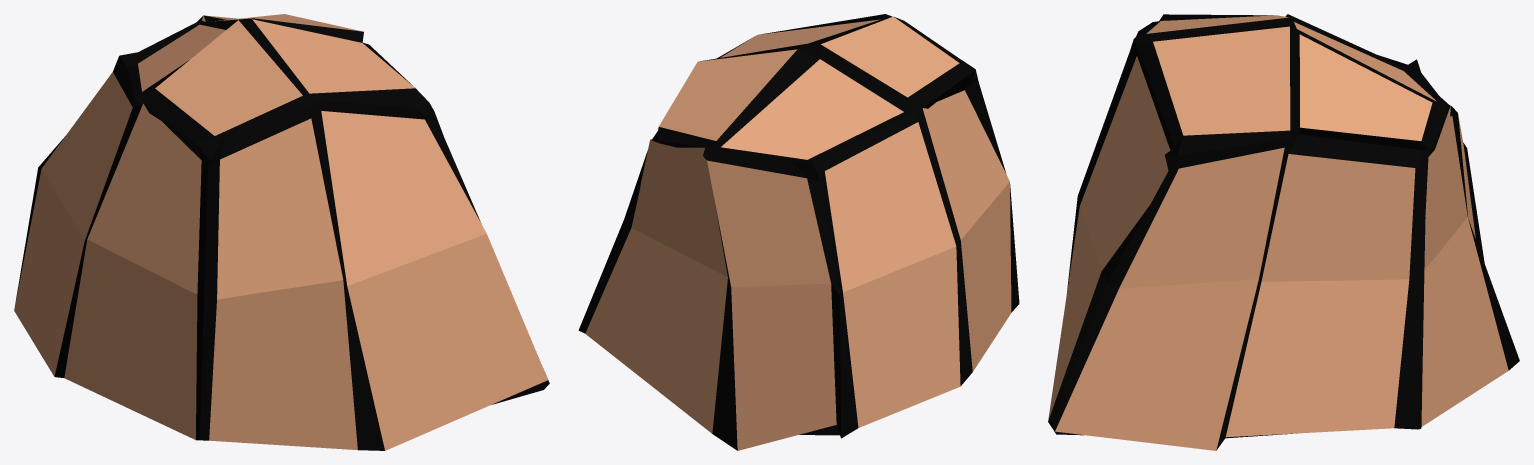
File: CardboardRock01.fbx
The picture shows the model from 3 angles, left to right: view 1: azimuth 30°, elevation 25°; view 2: azimuth 150°, elevation 25°; view 3: azimuth 270°, elevation 25°; orthographic projection. The views are drawn at different scales.
Parts seen in each view (by area): view 1: Cube.013; view 2: Cube.013; view 3: Cube.013.
Part boxes in pixels (left/top/right/bottom): Cube.013: left=14, top=14, right=549, bottom=450; Cube.013: left=578, top=14, right=1019, bottom=450; Cube.013: left=1048, top=14, right=1519, bottom=450.
Size of the model in its own units: 594 by 520 by 626.
